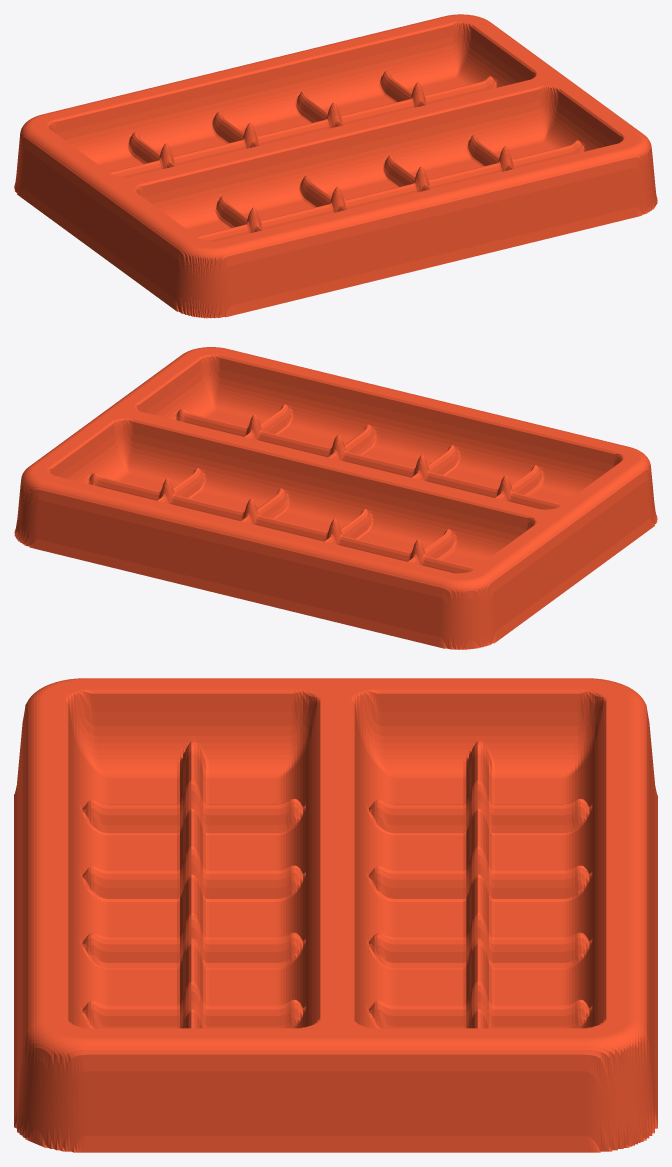
File: mold.glb
3 renders of one model, top to bottom at view 1: azimuth 30°, elevation 25°; view 2: azimuth 150°, elevation 25°; view 3: azimuth 270°, elevation 25°, orthographic. The views are drawn at different scales.
Visible parts, largest first — view 1: geometry_0; view 2: geometry_0; view 3: geometry_0.
Part boxes in pixels (x1,y1,x2,y2): geometry_0: [14, 14, 657, 318]; geometry_0: [14, 347, 657, 649]; geometry_0: [14, 678, 657, 1152].
Bounding box in the file's own units: 0.1158 × 0.0145 × 0.0825.
